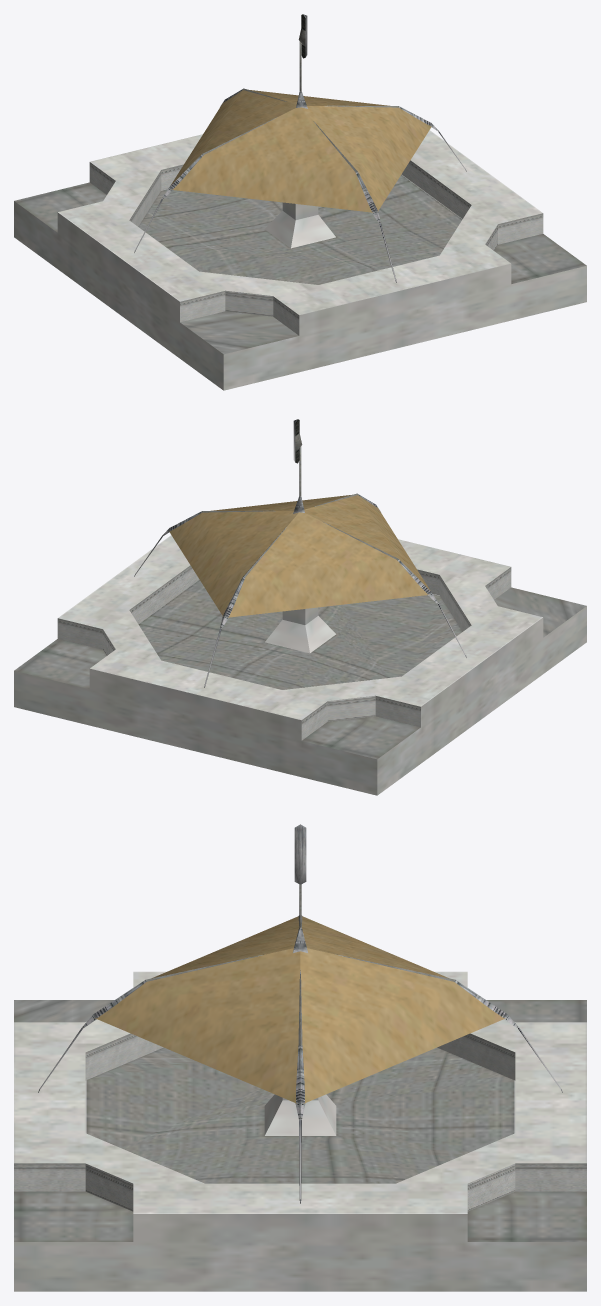
The model's file is mun_corl_bank_s01_l3.fbx.
The picture shows the model from 3 angles, top to bottom: view 1: azimuth 30°, elevation 25°; view 2: azimuth 150°, elevation 25°; view 3: azimuth 270°, elevation 25°; orthographic projection. The views are drawn at different scales.
Parts seen in each view (by area): view 1: mesh_node; view 2: mesh_node; view 3: mesh_node.
Boxes of the visible parts, left/top/right/bottom form: mesh_node: left=14, top=14, right=586, bottom=390; mesh_node: left=14, top=419, right=586, bottom=795; mesh_node: left=14, top=824, right=586, bottom=1291.
Bounding box in the file's own units: 60 × 40.21 × 60.
